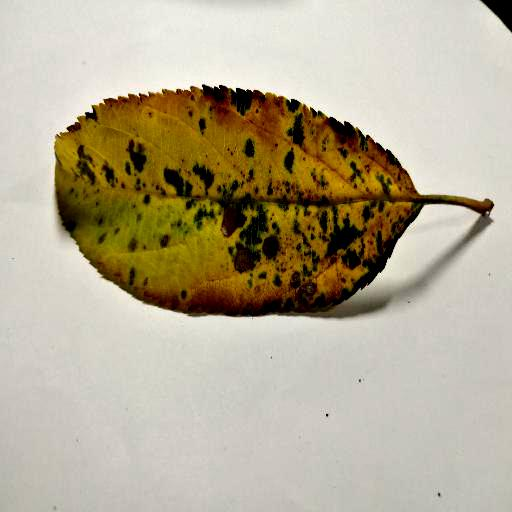Brown_Spot: (72, 137, 379, 284)
